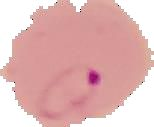parasitized: (38, 62, 103, 116)
